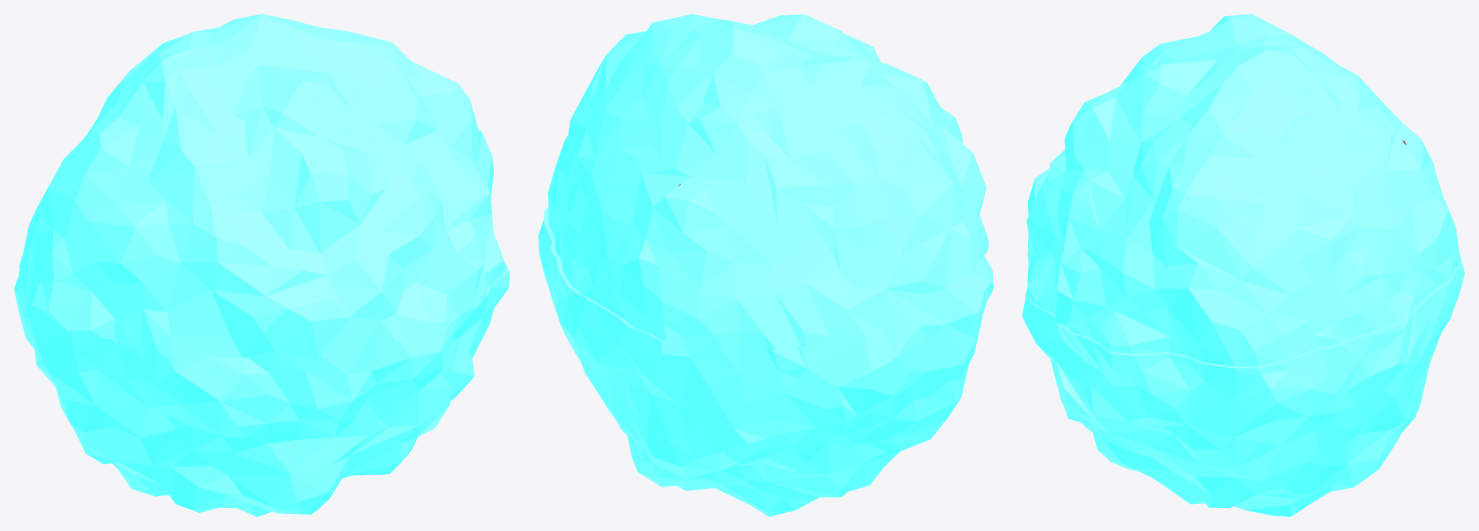
File: Rhinovirus_v05.fbx
3 views of the same model, side by side, from view 1: azimuth 30°, elevation 25°; view 2: azimuth 150°, elevation 25°; view 3: azimuth 270°, elevation 25° (orthographic). The views are drawn at different scales.
Visible parts, largest first — view 1: emission003, emission002; view 2: emission003, emission002; view 3: emission003, emission002.
Part boxes in pixels (left/top/right/bottom): emission003: left=18, top=14, right=506, bottom=359; emission002: left=14, top=265, right=509, bottom=516; emission003: left=548, top=14, right=993, bottom=349; emission002: left=538, top=208, right=985, bottom=516; emission003: left=1025, top=14, right=1461, bottom=366; emission002: left=1022, top=260, right=1464, bottom=516.
Size of the model in its own units: 94.45 by 96.33 by 85.28.
2 materials, 1 textured.
